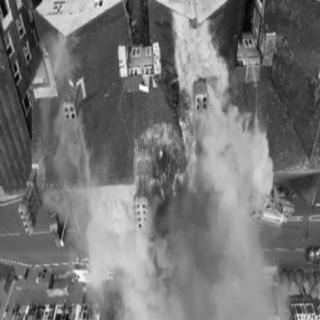Fire: (172, 93, 202, 200), (133, 125, 169, 199)
Smoke: (87, 186, 135, 279), (211, 130, 270, 191)
